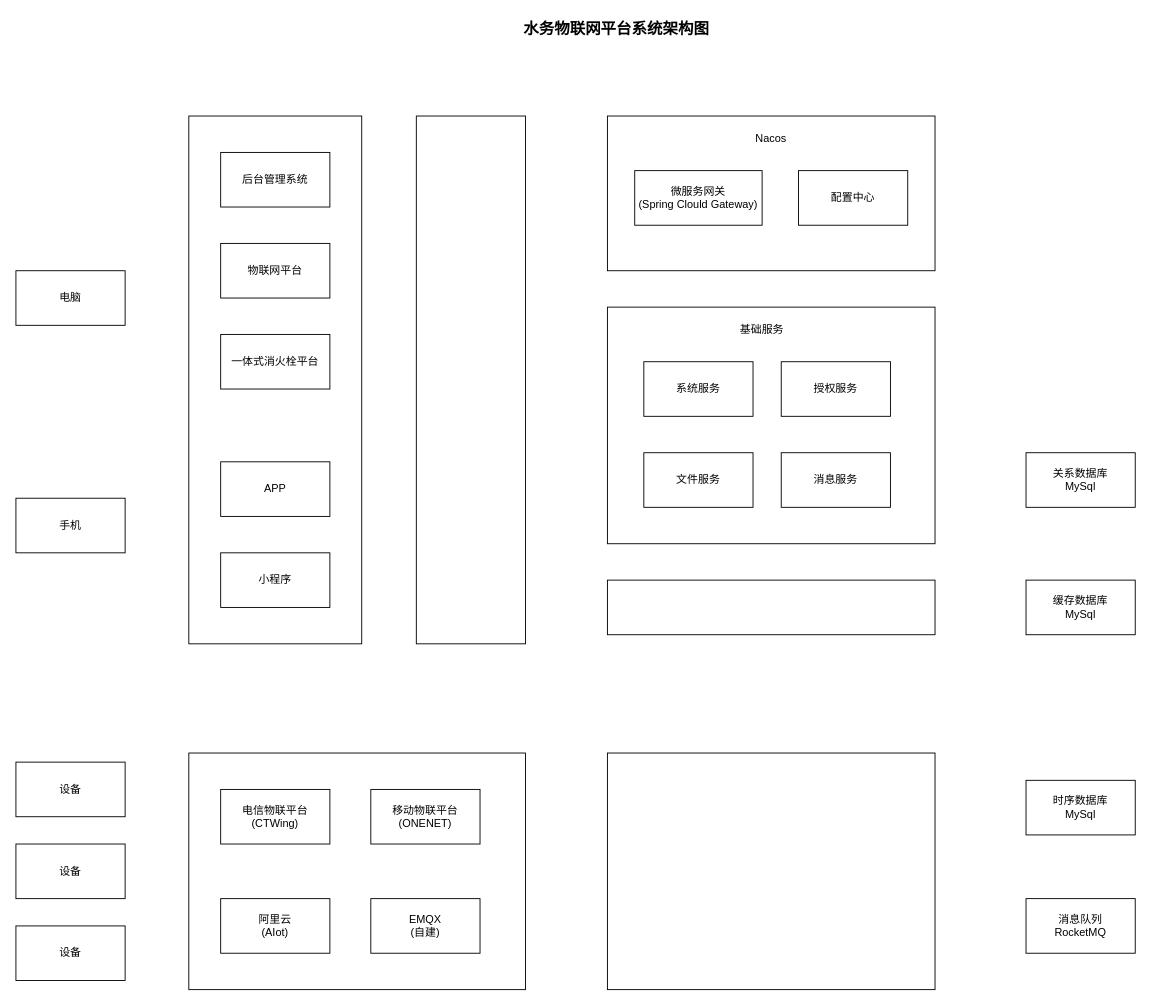
Image size: 1151x1006. Some labels were removed from this diagram. The centre of each missing label's shape, as x and y in pixels:
nginx网关: the point at 470,379
数据接入服务: the point at 771,871
物联网后台服务: the point at 771,607
